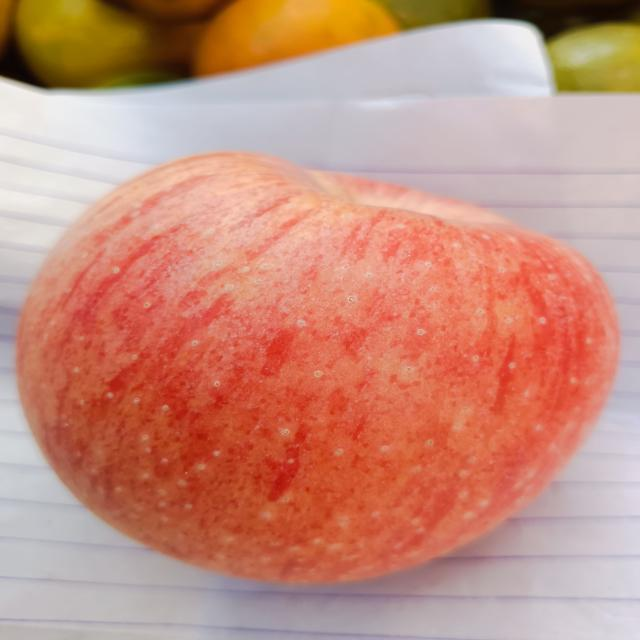Fresh Apple: (9, 147, 622, 592)
